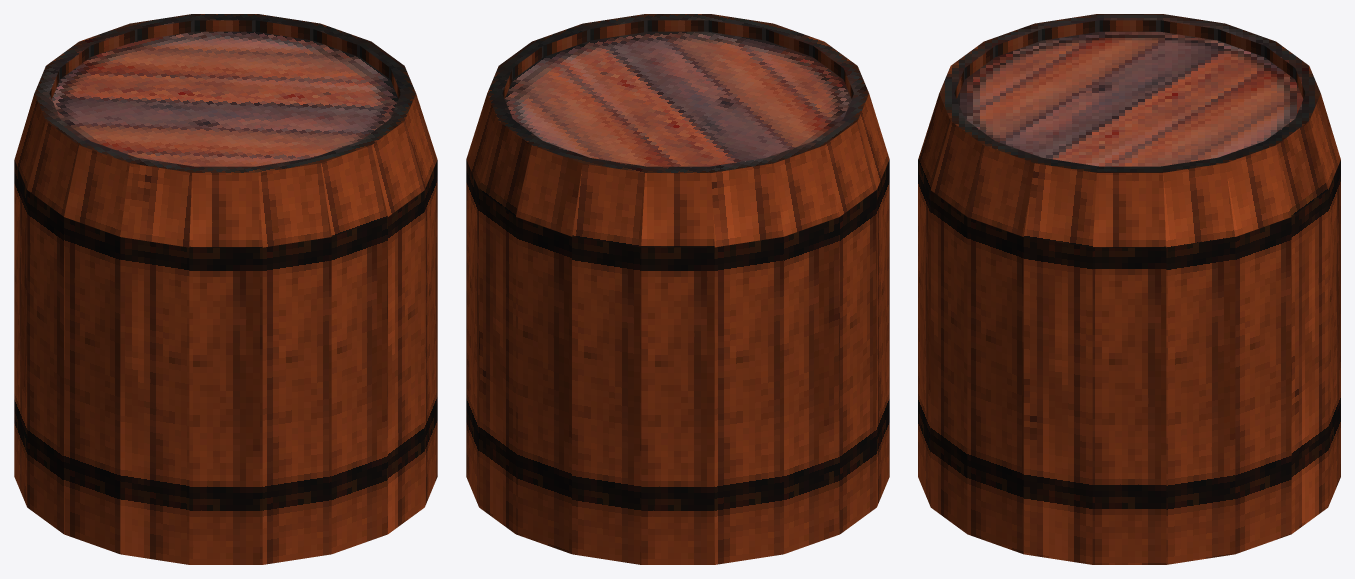
The model's file is barrel.obj.
The picture shows the model from 3 angles, left to right: view 1: azimuth 30°, elevation 25°; view 2: azimuth 150°, elevation 25°; view 3: azimuth 270°, elevation 25°; orthographic projection.
Parts seen in each view (by area): view 1: Mesh1 Group1 Model, Mesh2 Group2 Model; view 2: Mesh1 Group1 Model, Mesh2 Group2 Model; view 3: Mesh1 Group1 Model, Mesh2 Group2 Model.
Part boxes in pixels (x1,y1,x2,y2): Mesh1 Group1 Model: (14, 94, 437, 564); Mesh2 Group2 Model: (34, 14, 415, 172); Mesh1 Group1 Model: (466, 94, 889, 564); Mesh2 Group2 Model: (487, 14, 868, 172); Mesh1 Group1 Model: (918, 93, 1340, 564); Mesh2 Group2 Model: (939, 14, 1320, 172).
Size of the model in its own units: 0.9848 by 1 by 1.
Materials: 2 (2 with a texture image).
